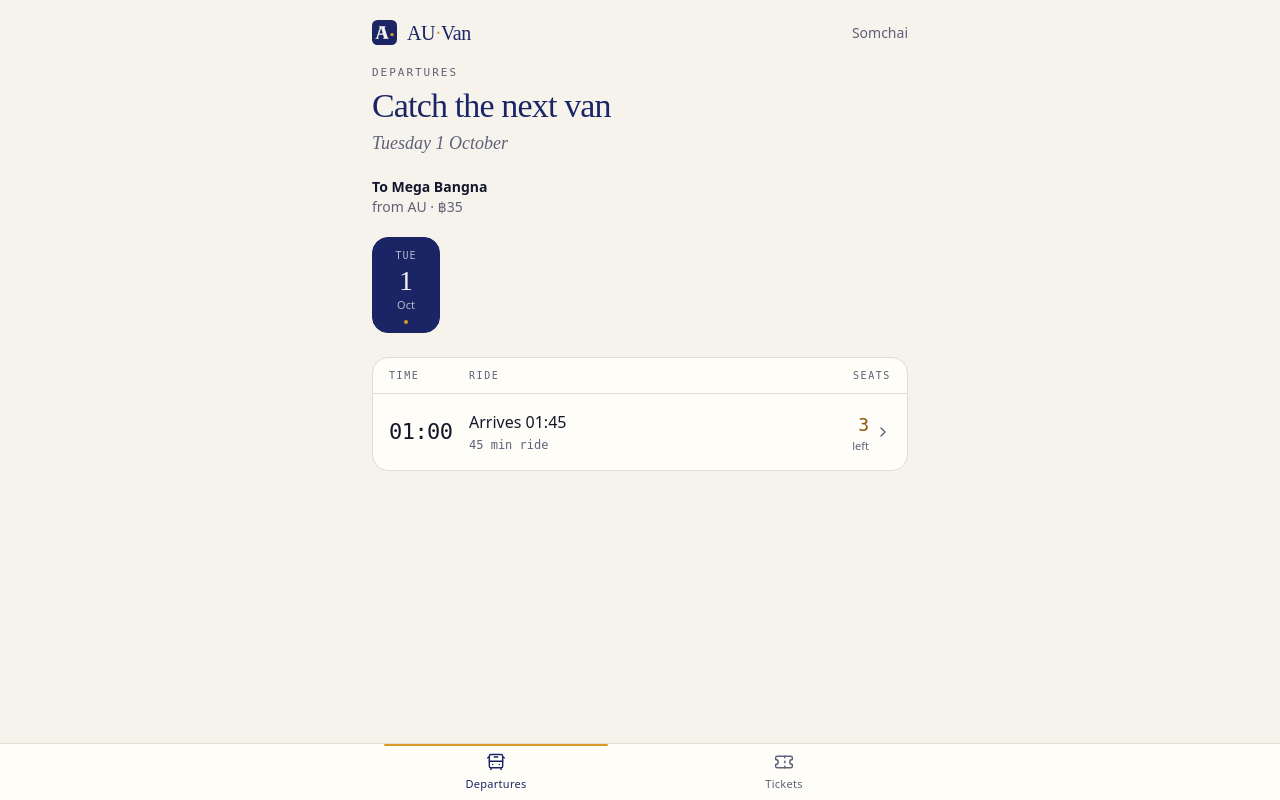
Test: Student app › names each seat state so it is not carried by colour alone
What coordinates should you click on to do the following:
click the button with aria-label "Mega Bangna"
I would click on:
 (421, 432)
Its box is [373,394,907,470].
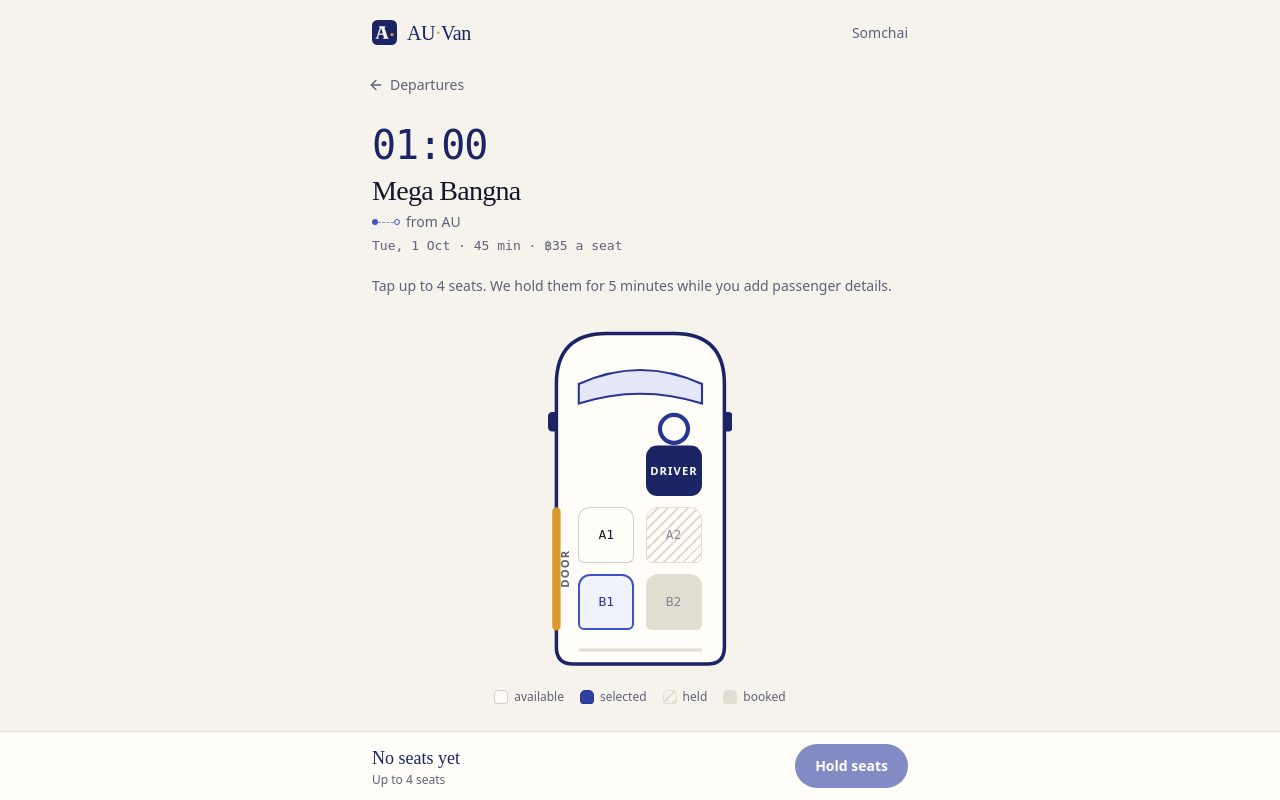
Expected: the button named "Seat A1, available" is enabled
Expected: the button named "Seat A2, held by someone else" is disabled, [646,507,702,563]
Expected: the button named "Seat B1, held by you" is enabled, [578,574,634,630]
What coordinates should you click on to do the following:
click the button named "Seat A1, available"
I would click on:
 (606, 535)
Its box is [578,507,634,563].
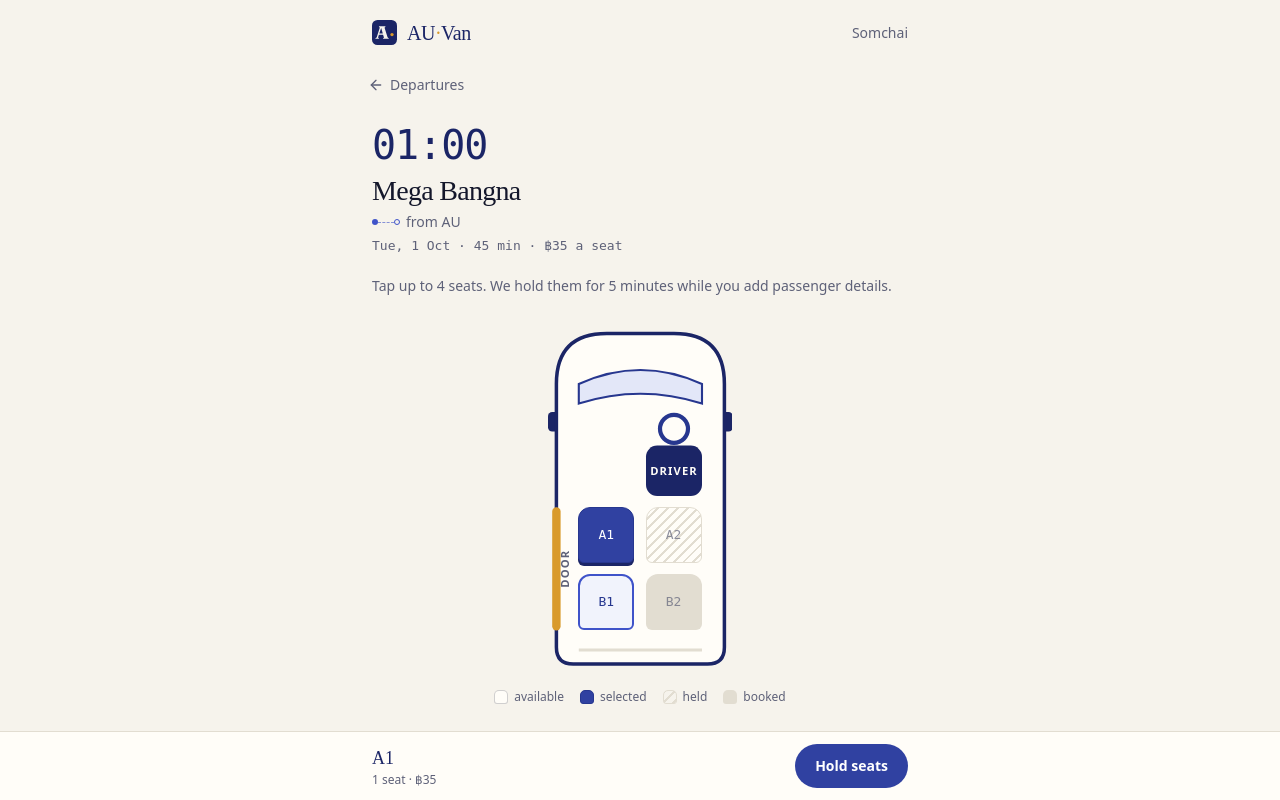
Expected: the button named "Seat A1, selected" is shown
What coordinates should you click on to do the following:
click the button named "Seat A1, selected"
I would click on:
 (606, 535)
Its box is [578,507,634,563].
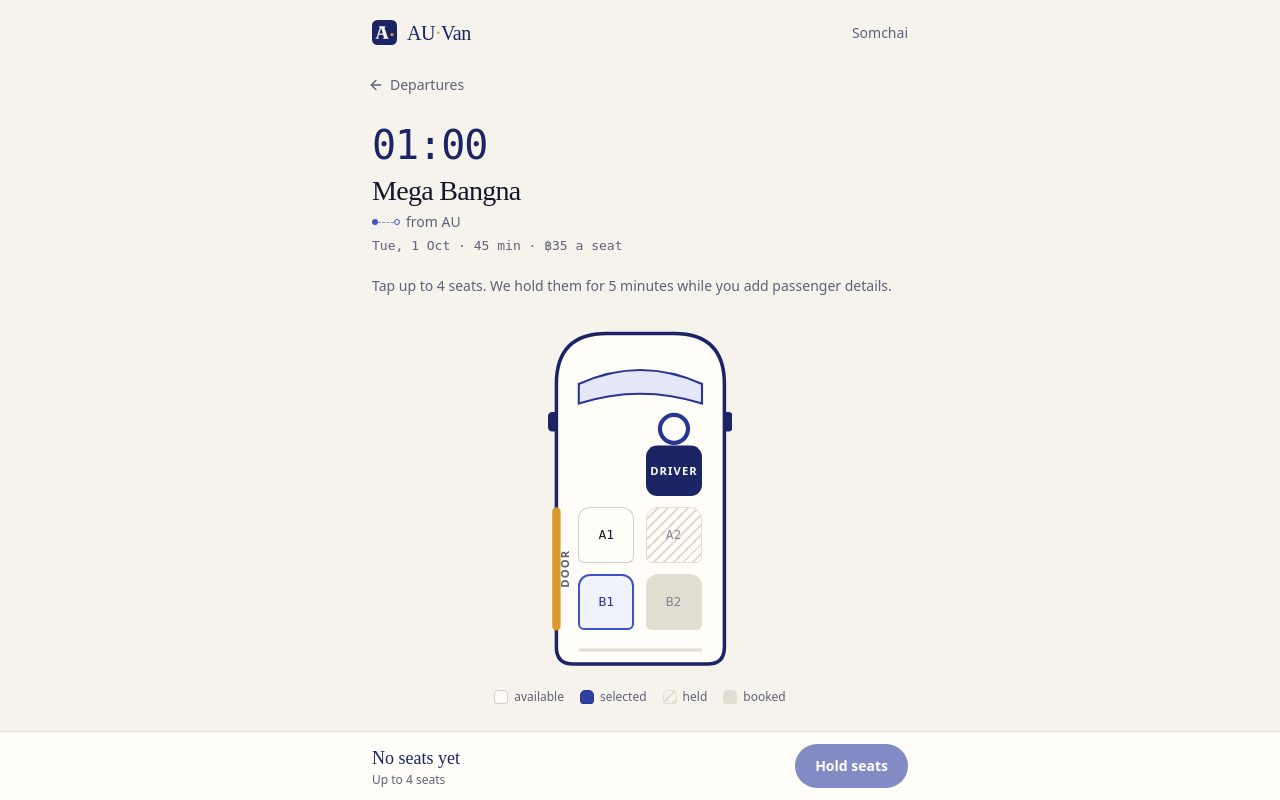
Expected: the button named "Seat A1, available" is shown, [578,507,634,563]
